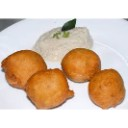bonda: (3, 49, 48, 88), (27, 70, 69, 108), (62, 49, 102, 81), (91, 71, 126, 107)
